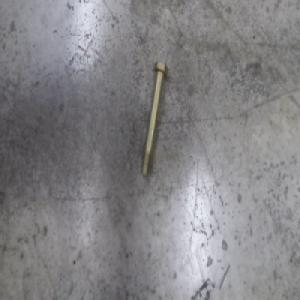Bolt: (140, 60, 168, 178)
